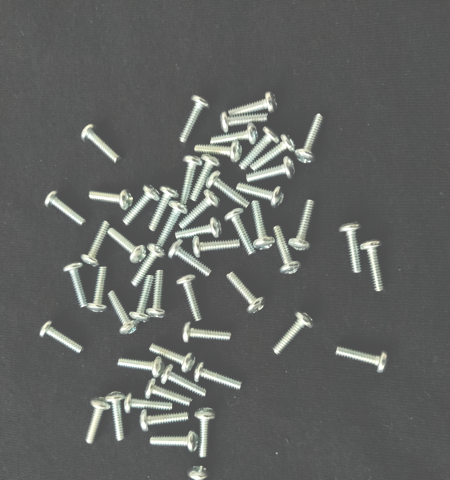shortscrew: (273, 310, 315, 356), (239, 126, 280, 170), (81, 124, 123, 165), (206, 171, 251, 209), (252, 133, 297, 171), (40, 318, 86, 355), (168, 240, 214, 277), (227, 272, 266, 315), (123, 183, 161, 227), (130, 242, 167, 287), (148, 185, 182, 233), (288, 199, 319, 251), (45, 189, 88, 226), (336, 345, 390, 374), (107, 227, 148, 265), (225, 208, 258, 255), (149, 342, 197, 374), (295, 113, 325, 164), (161, 364, 206, 398), (273, 224, 303, 274), (108, 289, 140, 335), (180, 94, 210, 143), (190, 154, 221, 201), (247, 156, 299, 184), (157, 201, 189, 246), (195, 362, 243, 391), (81, 221, 111, 267), (360, 240, 386, 292), (145, 379, 193, 407), (237, 181, 285, 209), (228, 91, 278, 117), (140, 406, 189, 432), (62, 260, 88, 308), (250, 201, 275, 250), (339, 222, 363, 273), (85, 398, 111, 445), (180, 155, 204, 205), (194, 140, 243, 164), (150, 430, 200, 453), (195, 407, 217, 458), (175, 217, 222, 240), (118, 355, 165, 378), (130, 277, 154, 322), (220, 111, 268, 133), (211, 123, 259, 145), (146, 269, 167, 319), (183, 322, 232, 343), (124, 393, 173, 414), (86, 268, 109, 312), (89, 189, 134, 211), (192, 239, 240, 259), (188, 465, 210, 480)
